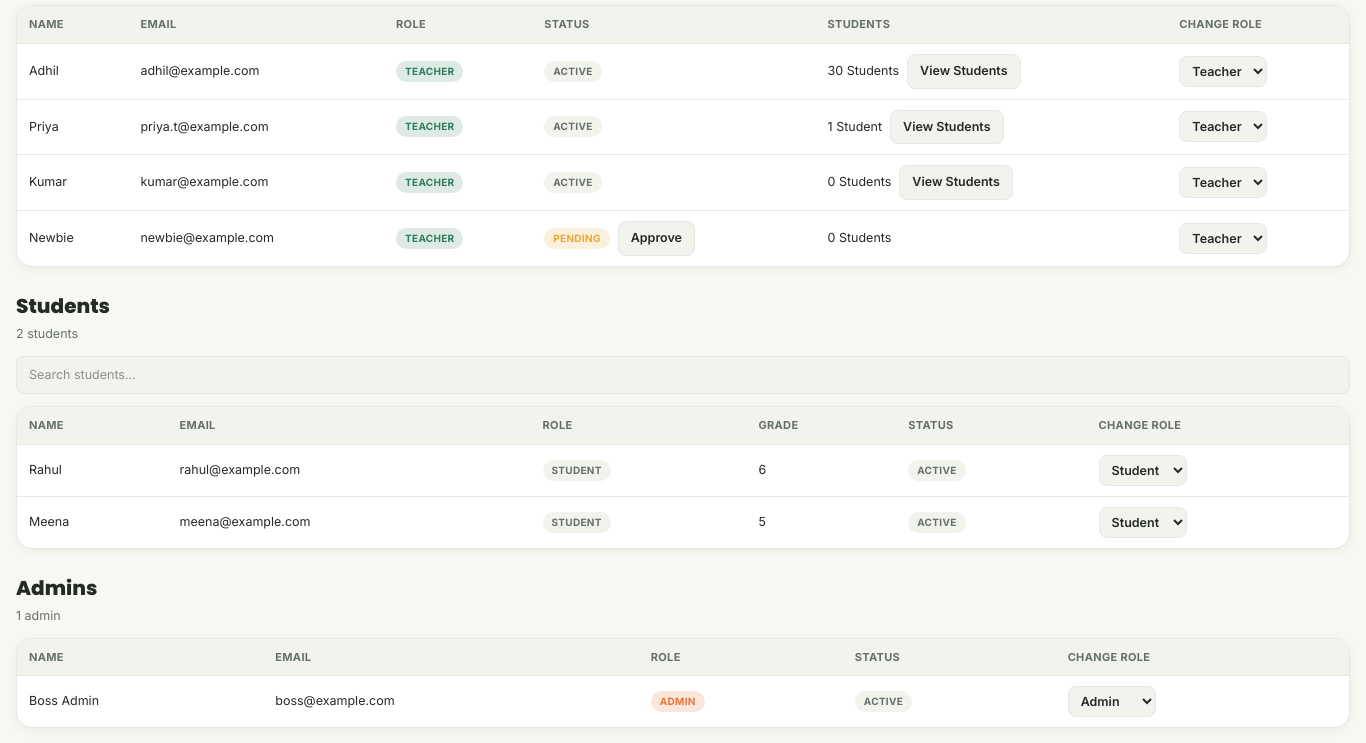
Test: AdminStaff — summary counts › promoting a student to teacher moves the Teachers/Students totals
(page scrolled)
Select "Teacher" in the dropdown named "Change role for Rahul": (1143, 470) [1099,455,1187,486]
(page scrolled)
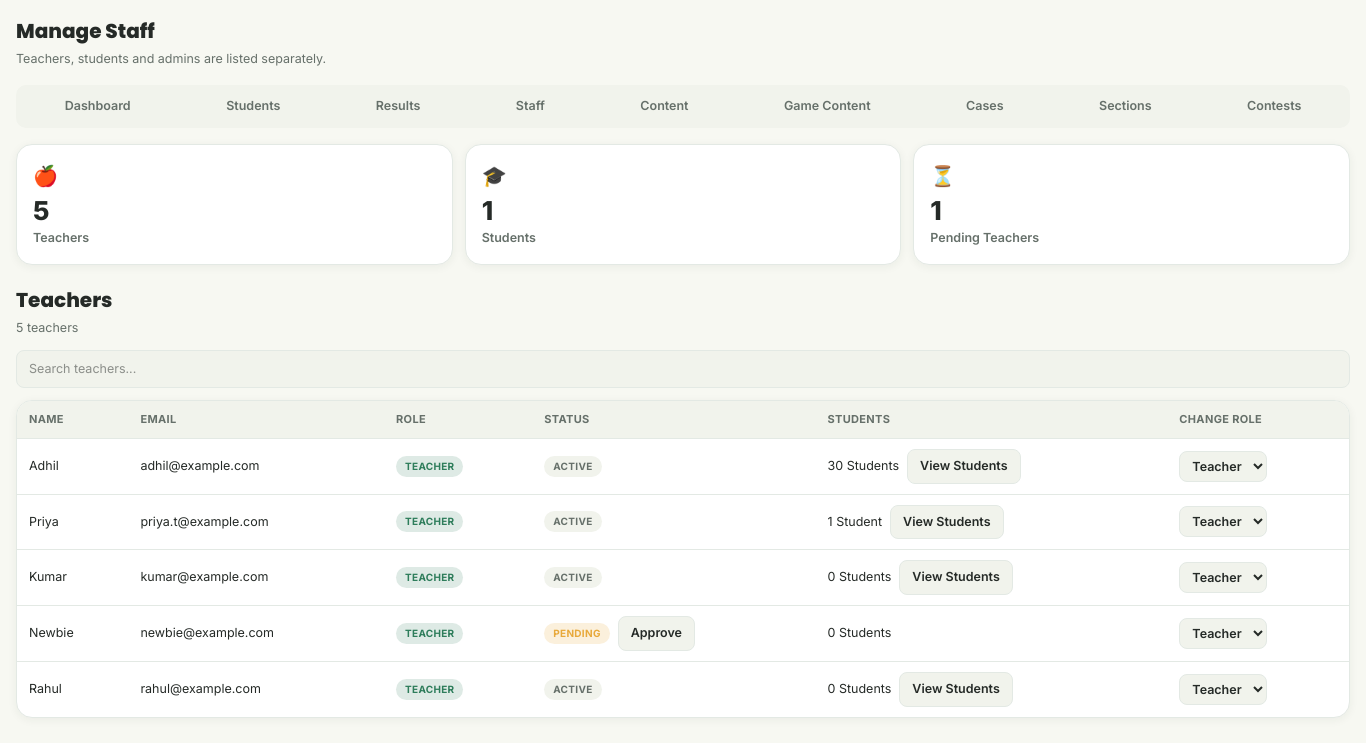
Expected: the text "5" is shown, [33,194,50,226]
Expected: the 1st text "1" is shown, [482,194,493,226]
